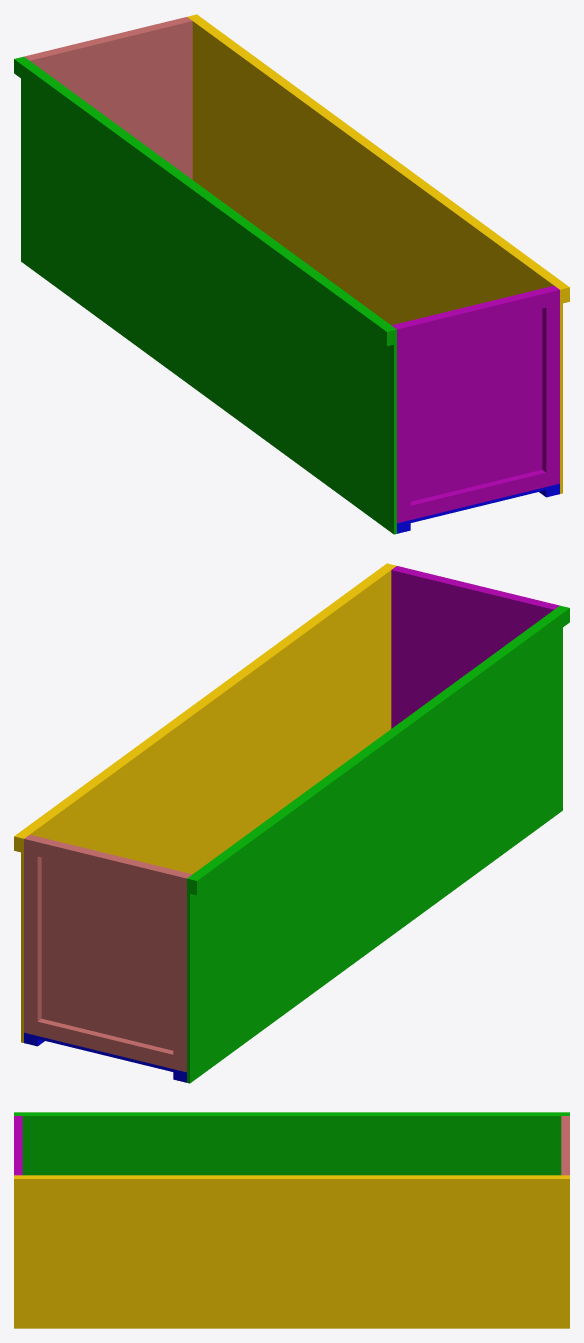
The model's file is result.glb.
3 views of the same model, one above another, from view 1: azimuth 30°, elevation 25°; view 2: azimuth 150°, elevation 25°; view 3: azimuth 270°, elevation 25° (orthographic). The views are drawn at different scales.
Parts seen in each view (by area): view 1: 93b96e15-7a5d-4662-bb64-d0a5591ebf61__Box_6, ce96991d-79bd-4a62-b350-0866b5029c29__undefined, 2f596859-6df6-4978-bb48-82122846436f__Box_3, 33adafc0-2705-43c4-ae5a-c77e7cfde135__undefined, f10325b3-f952-4ffc-83f7-f2cb8e4a55f8__Box_7, 42b707ce-8fec-4e84-abe8-995dd976aa09__undefined, 522e71c2-eca0-4c63-b9e0-ab49962a48e5__undefined, 9425c4f4-0ae5-4457-a3b6-3c0b39dd8ab7__Box_4, 281b889f-b31d-406c-82b1-6f42dc71f462__undefined, 02c59b95-1204-47fa-b204-5e4be53812f5__Box_5; view 2: 93b96e15-7a5d-4662-bb64-d0a5591ebf61__Box_6, ce96991d-79bd-4a62-b350-0866b5029c29__undefined, 33adafc0-2705-43c4-ae5a-c77e7cfde135__undefined, 2f596859-6df6-4978-bb48-82122846436f__Box_3, f10325b3-f952-4ffc-83f7-f2cb8e4a55f8__Box_7, d344dd9d-3091-40cd-8c47-6299f2cc639e__undefined, 522e71c2-eca0-4c63-b9e0-ab49962a48e5__undefined, ff14257d-b67b-436c-b5fc-587390088fe2__undefined, bf41f009-f54b-4e57-a733-d9ca82942c4d__undefined, 3cbb7afc-dc40-4d01-963a-00cb2c594fce__undefined; view 3: ce96991d-79bd-4a62-b350-0866b5029c29__undefined, 93b96e15-7a5d-4662-bb64-d0a5591ebf61__Box_6, 522e71c2-eca0-4c63-b9e0-ab49962a48e5__undefined, f10325b3-f952-4ffc-83f7-f2cb8e4a55f8__Box_7, 281b889f-b31d-406c-82b1-6f42dc71f462__undefined, bf41f009-f54b-4e57-a733-d9ca82942c4d__undefined.
Boxes of the visible parts, <box> form: 93b96e15-7a5d-4662-bb64-d0a5591ebf61__Box_6: <box>21,56,396,534</box>; ce96991d-79bd-4a62-b350-0866b5029c29__undefined: <box>187,16,562,493</box>; 2f596859-6df6-4978-bb48-82122846436f__Box_3: <box>391,285,555,501</box>; 33adafc0-2705-43c4-ae5a-c77e7cfde135__undefined: <box>28,20,192,179</box>; f10325b3-f952-4ffc-83f7-f2cb8e4a55f8__Box_7: <box>14,57,393,346</box>; 42b707ce-8fec-4e84-abe8-995dd976aa09__undefined: <box>542,287,559,486</box>; 522e71c2-eca0-4c63-b9e0-ab49962a48e5__undefined: <box>190,14,569,303</box>; 9425c4f4-0ae5-4457-a3b6-3c0b39dd8ab7__Box_4: <box>393,323,410,523</box>; 281b889f-b31d-406c-82b1-6f42dc71f462__undefined: <box>407,290,546,340</box>; 02c59b95-1204-47fa-b204-5e4be53812f5__Box_5: <box>410,470,546,519</box>; 93b96e15-7a5d-4662-bb64-d0a5591ebf61__Box_6: <box>187,605,562,1083</box>; ce96991d-79bd-4a62-b350-0866b5029c29__undefined: <box>21,565,396,1042</box>; 33adafc0-2705-43c4-ae5a-c77e7cfde135__undefined: <box>28,834,192,1050</box>; 2f596859-6df6-4978-bb48-82122846436f__Box_3: <box>391,569,555,728</box>; f10325b3-f952-4ffc-83f7-f2cb8e4a55f8__Box_7: <box>190,606,569,895</box>; d344dd9d-3091-40cd-8c47-6299f2cc639e__undefined: <box>24,836,41,1035</box>; 522e71c2-eca0-4c63-b9e0-ab49962a48e5__undefined: <box>14,563,393,852</box>; ff14257d-b67b-436c-b5fc-587390088fe2__undefined: <box>173,872,190,1072</box>; bf41f009-f54b-4e57-a733-d9ca82942c4d__undefined: <box>37,839,176,889</box>; 3cbb7afc-dc40-4d01-963a-00cb2c594fce__undefined: <box>37,1019,173,1068</box>; ce96991d-79bd-4a62-b350-0866b5029c29__undefined: <box>14,1175,569,1328</box>; 93b96e15-7a5d-4662-bb64-d0a5591ebf61__Box_6: <box>14,1115,569,1175</box>; 522e71c2-eca0-4c63-b9e0-ab49962a48e5__undefined: <box>14,1176,569,1189</box>; f10325b3-f952-4ffc-83f7-f2cb8e4a55f8__Box_7: <box>14,1112,569,1114</box>; 281b889f-b31d-406c-82b1-6f42dc71f462__undefined: <box>14,1121,19,1170</box>; bf41f009-f54b-4e57-a733-d9ca82942c4d__undefined: <box>564,1121,569,1170</box>.
Bounding box in the file's own units: 494 × 527 × 1744.
